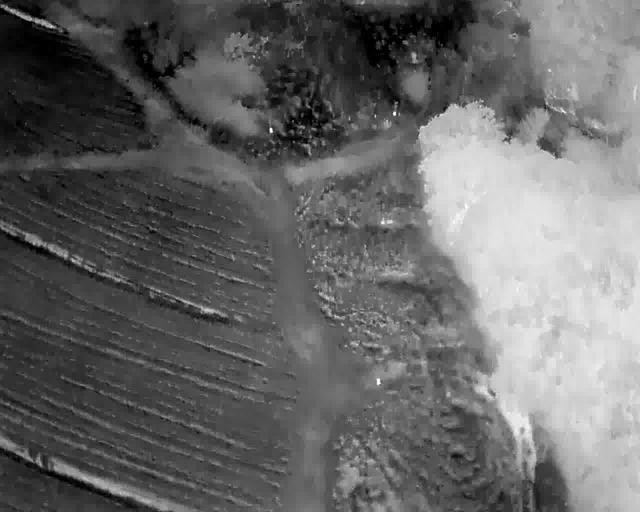person: (375, 377, 381, 385)
